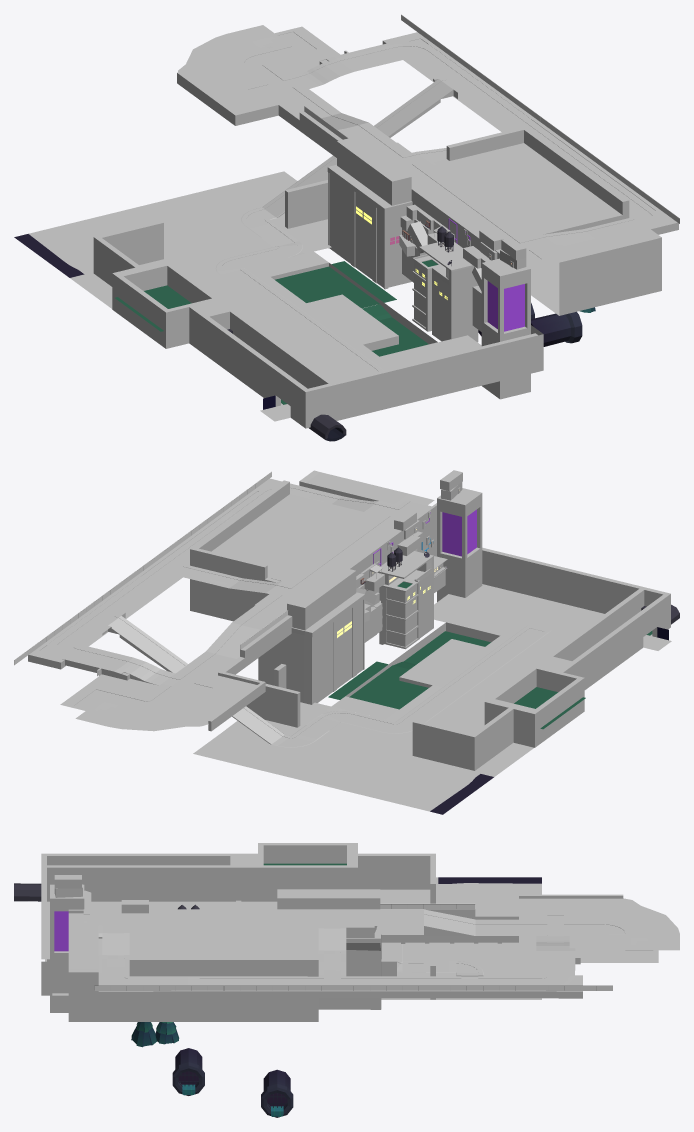
The model's file is EXT_MountainRange_BigCityFoundation.fbx.
3 renders of one model, top to bottom at view 1: azimuth 30°, elevation 25°; view 2: azimuth 150°, elevation 25°; view 3: azimuth 270°, elevation 25°, orthographic. The views are drawn at different scales.
Parts seen in each view (by area): view 1: Street_Middle, Street_Middle.002, Walls, Walls.004, Building.024, Building.029, Street.WalltoInnerCity, Energy.001, Water, Walls.008, Fence, Pipes.053 (+5 smaller); view 2: Street_Middle.002, Street_Middle, Walls, Walls.004, Building.024, Energy.001, Building.029, Street.WalltoInnerCity, Water, Walls.008, Fence, Walls.006 (+3 smaller); view 3: Street_Middle, Walls.004, Street_Middle.002, Street.WalltoInnerCity, Walls, Building.024, Fence, Walls.008, Energy.001, Pipes.053, Pipes.062, Fence.083 (+3 smaller).
Boxes of the visible parts, x1,y1,x2,y2 form: Street_Middle: (178, 25, 658, 262); Street_Middle.002: (14, 88, 481, 382); Walls: (93, 180, 543, 428); Walls.004: (382, 32, 678, 315); Building.024: (327, 136, 412, 289); Building.029: (412, 242, 478, 342); Street.WalltoInnerCity: (141, 260, 333, 421); Energy.001: (481, 258, 530, 399); Water: (275, 261, 396, 308); Walls.008: (177, 72, 342, 157); Fence: (401, 14, 679, 223); Pipes.053: (531, 311, 582, 346); Street_Middle.002: (119, 584, 604, 814); Street_Middle: (47, 485, 434, 731); Walls: (246, 547, 670, 770); Walls.004: (28, 470, 434, 669); Building.024: (254, 566, 364, 704); Energy.001: (437, 488, 482, 601); Building.029: (378, 551, 433, 649); Street.WalltoInnerCity: (484, 588, 671, 724); Water: (328, 661, 428, 709); Walls.008: (208, 615, 292, 731); Fence: (14, 471, 271, 665); Walls.006: (350, 503, 436, 592); Street_Middle: (83, 898, 679, 985); Walls.004: (68, 913, 582, 1021); Street_Middle.002: (45, 877, 541, 999); Street.WalltoInnerCity: (47, 856, 357, 901); Walls: (41, 843, 435, 999); Building.024: (275, 889, 381, 1009); Fence: (94, 985, 612, 990); Walls.008: (377, 894, 623, 943); Energy.001: (50, 884, 84, 1012); Pipes.053: (172, 1048, 204, 1095); Pipes.062: (261, 1069, 293, 1117); Fence.083: (380, 903, 474, 908).
Size of the model in its own units: 41029 by 18011 by 59076.
